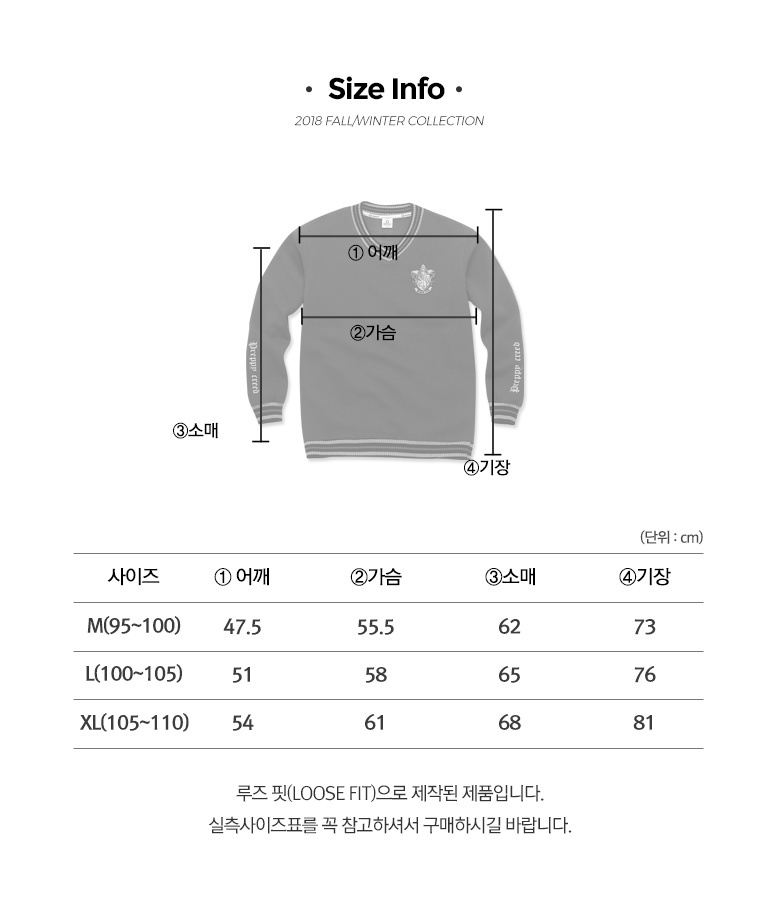table: (72, 554, 711, 749)
